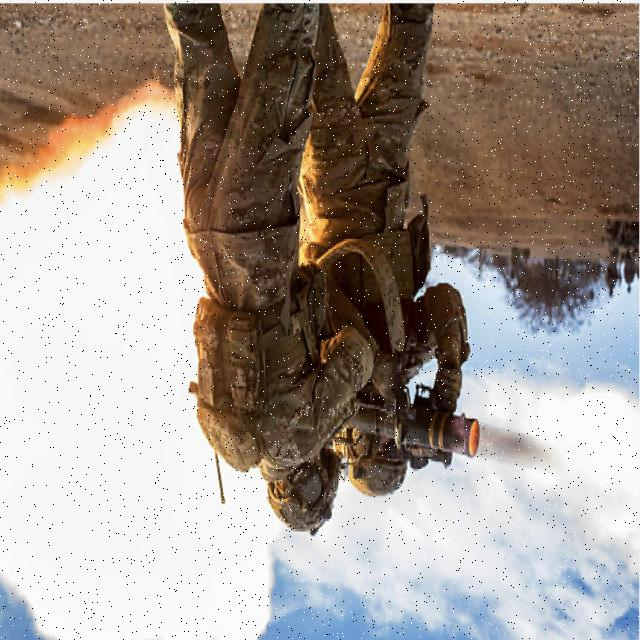bazooka: (338, 383, 487, 470)
